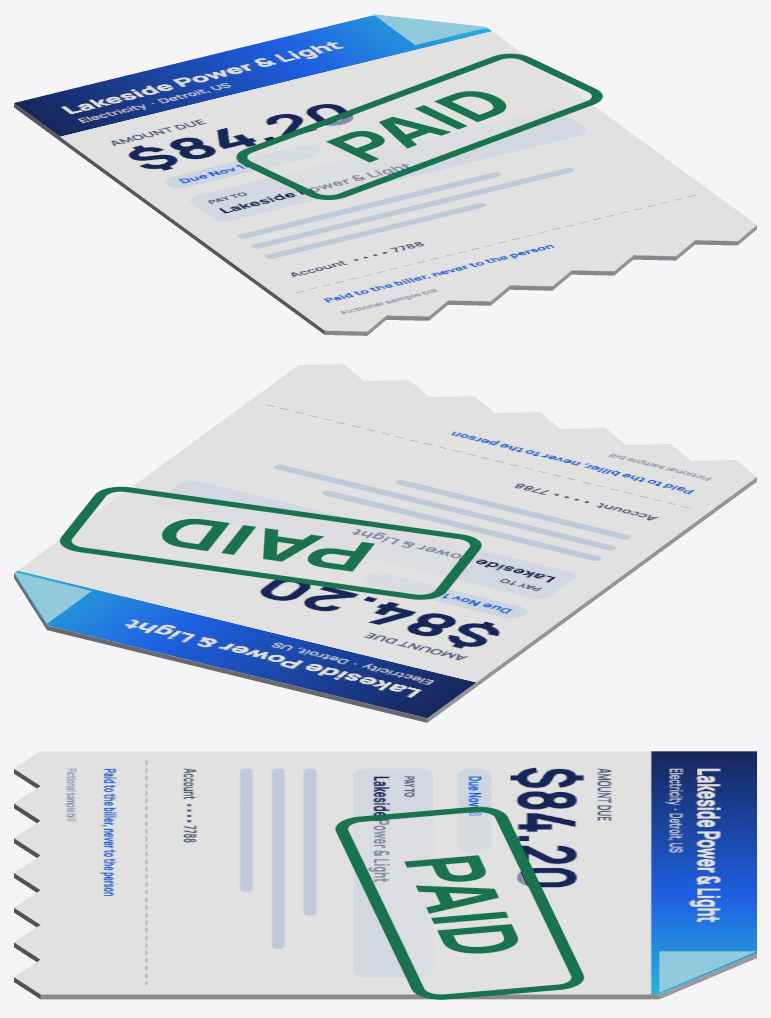
File: bill.glb
3 renders of one model, top to bottom at view 1: azimuth 30°, elevation 25°; view 2: azimuth 150°, elevation 25°; view 3: azimuth 270°, elevation 25°, orthographic. The views are drawn at different scales.
Parts seen in each view (by area): view 1: Face, PaidStamp, Paper, Fold; view 2: Face, PaidStamp, Paper, Fold; view 3: Face, PaidStamp, Paper, Fold.
Part boxes in pixels (x1,y1,x2,y2): Face: (14, 15, 756, 331); PaidStamp: (236, 53, 602, 199); Paper: (14, 103, 756, 335); Fold: (373, 14, 487, 44); Face: (14, 364, 756, 717); PaidStamp: (59, 486, 481, 599); Paper: (14, 477, 756, 722); Fold: (14, 572, 91, 623); Face: (14, 751, 756, 994); PaidStamp: (335, 806, 584, 999); Paper: (14, 769, 756, 999); Fold: (659, 951, 756, 992).
Bounding box in the file's own units: 0.2276 × 0.0036 × 0.279.
Materials: 4 (2 with a texture image).
